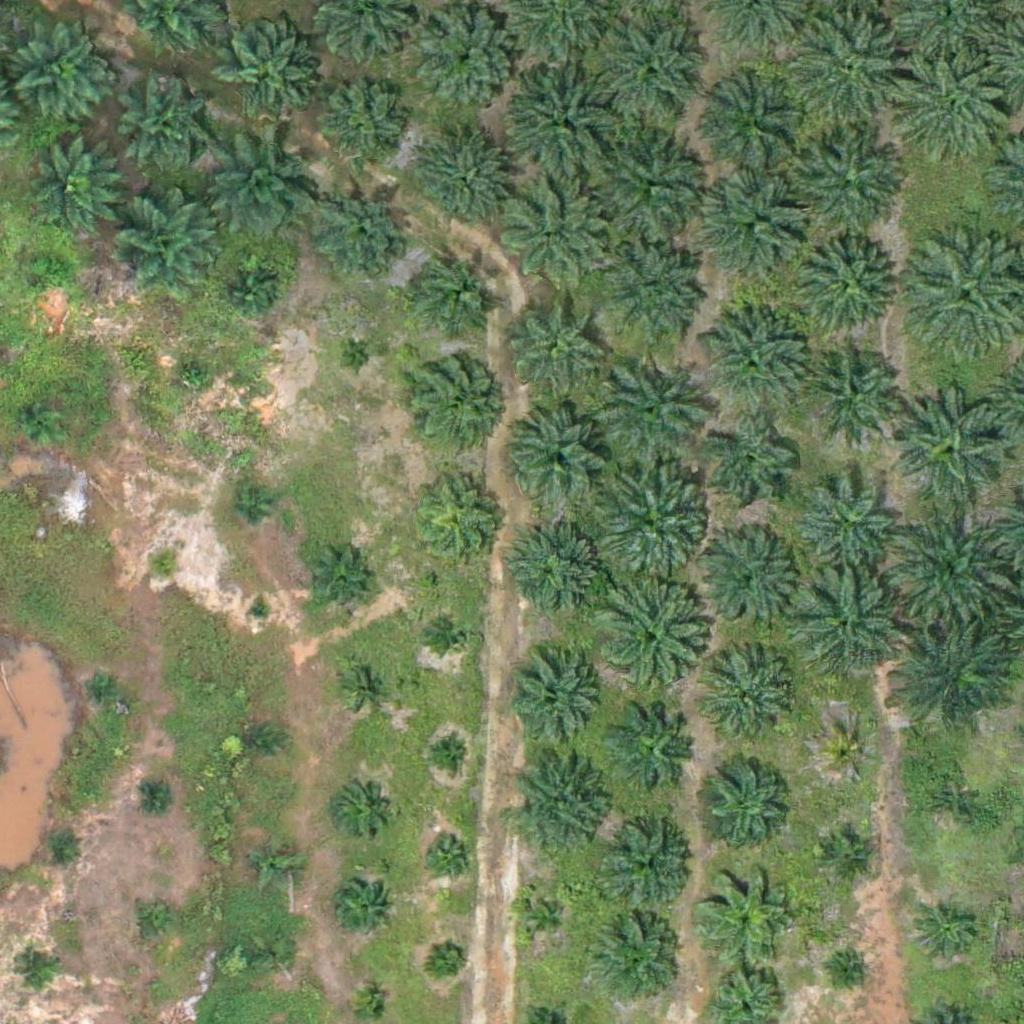Kelapa_Sawit: (498, 59, 623, 185), (589, 123, 714, 249), (785, 5, 910, 131), (893, 50, 1018, 176), (886, 502, 1011, 628), (894, 613, 1019, 739), (587, 460, 712, 585), (587, 579, 712, 704), (209, 132, 322, 245), (594, 16, 707, 129), (794, 571, 907, 684), (699, 306, 812, 419), (596, 237, 709, 350), (593, 355, 706, 468), (896, 383, 1008, 497), (701, 66, 813, 179), (790, 132, 902, 245), (498, 182, 610, 295), (11, 25, 111, 126), (217, 23, 317, 124), (418, 9, 518, 110), (414, 134, 514, 235), (798, 472, 898, 573), (702, 418, 802, 519), (697, 527, 797, 628), (500, 288, 600, 389), (511, 405, 611, 506), (508, 524, 608, 625), (505, 652, 605, 753), (403, 243, 503, 344), (405, 349, 505, 450), (410, 470, 510, 571), (116, 197, 216, 298), (695, 862, 795, 963), (513, 754, 613, 855), (795, 234, 895, 334), (804, 342, 904, 442), (707, 178, 807, 278), (19, 137, 119, 237), (708, 656, 796, 745), (118, 80, 206, 168), (593, 912, 681, 1000), (605, 820, 693, 908), (612, 707, 700, 795), (318, 188, 405, 277), (317, 81, 404, 169), (702, 752, 789, 840), (305, 551, 368, 614), (916, 901, 978, 964), (332, 878, 394, 941), (920, 771, 982, 834), (224, 265, 274, 316), (335, 781, 385, 832), (251, 838, 301, 889), (823, 830, 873, 880), (824, 730, 874, 780), (519, 892, 569, 942), (424, 828, 474, 878), (241, 723, 279, 761), (33, 251, 71, 289), (24, 402, 62, 440), (176, 358, 214, 396), (338, 339, 376, 377), (144, 548, 182, 586), (435, 617, 473, 655), (429, 734, 466, 772), (347, 667, 384, 705), (141, 778, 179, 815), (17, 953, 54, 991), (258, 936, 296, 973), (431, 938, 468, 976), (228, 487, 265, 525), (39, 826, 76, 863), (136, 904, 173, 941), (87, 669, 124, 706), (838, 958, 863, 983), (247, 597, 272, 622)
